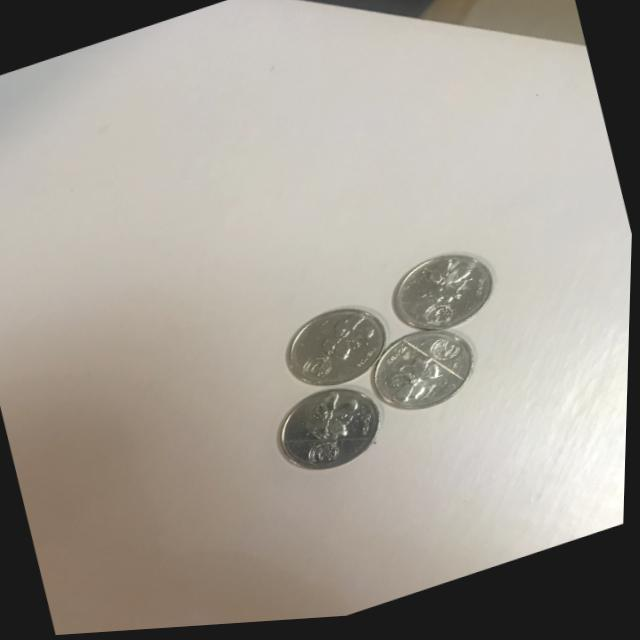25Cent_New_Back: (282, 382, 383, 467), (388, 329, 489, 408), (288, 307, 381, 385)
